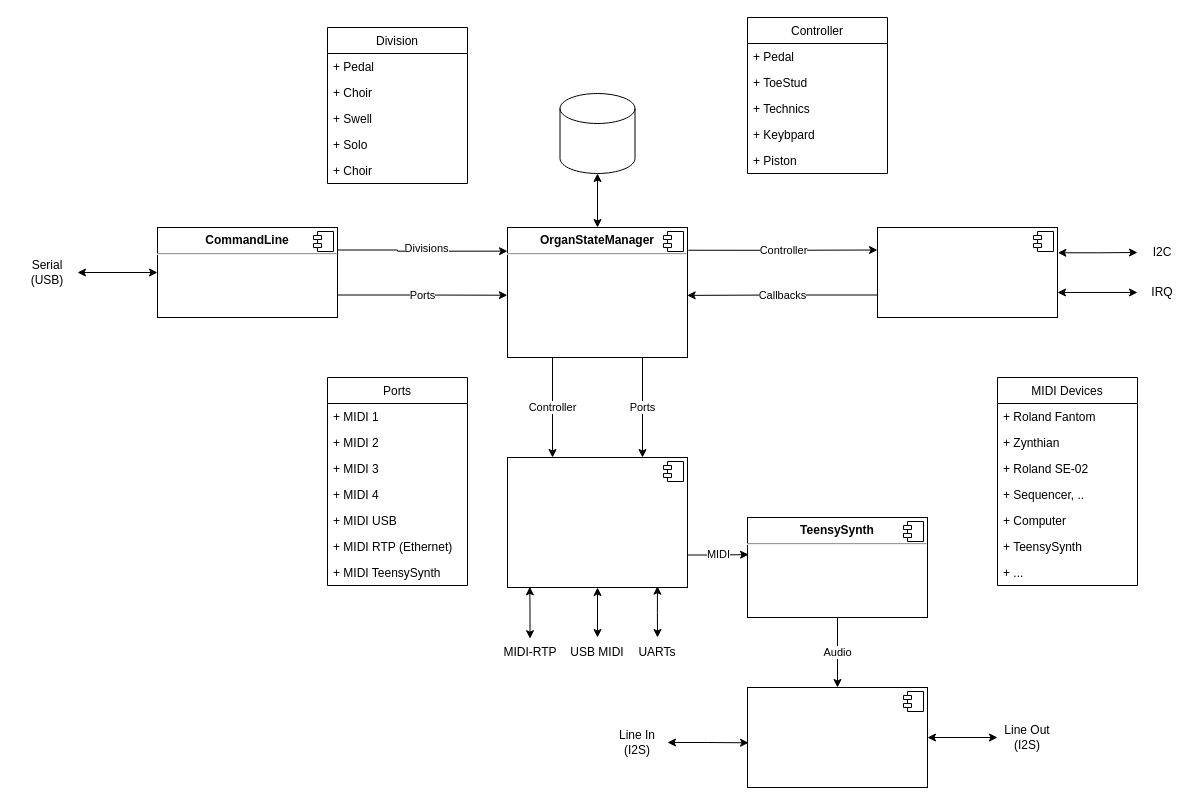
Some shapes in this 1204 by 805 pixel diagram are drawn without their labels. Here are the shapes that lost their labels. From the top down, the centre of each, then its label:
(597,133): Settings
(967,272): ControllerDriver
(597,522): MIDIRouter
(837,737): EffectsEngine
